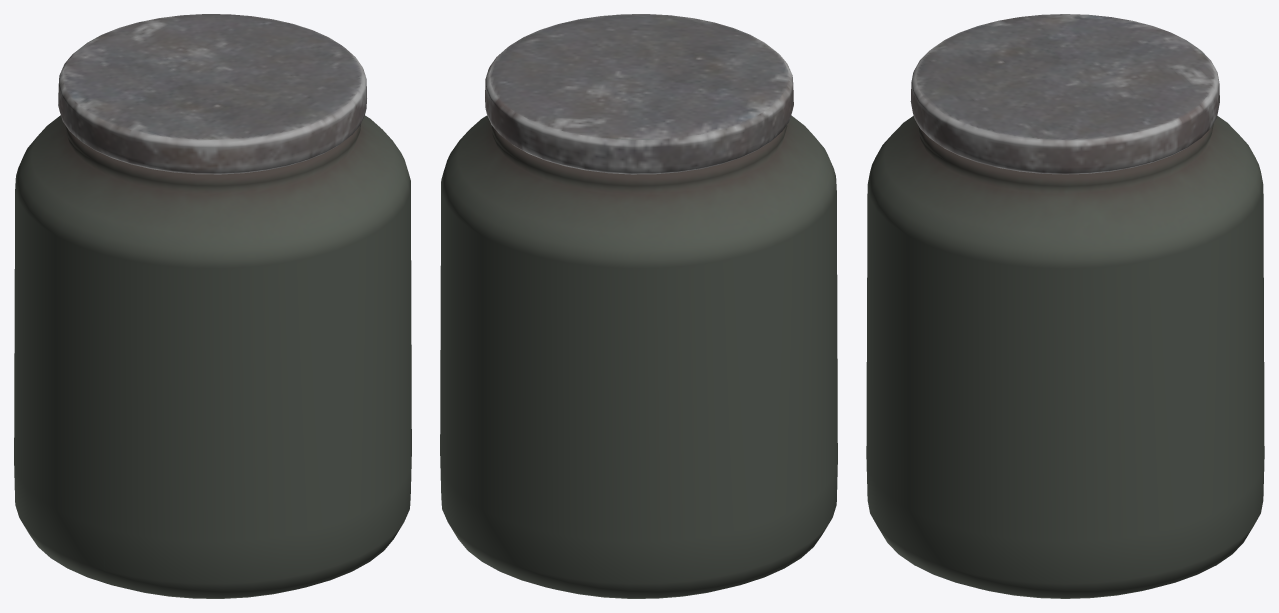
File: SM_Jar_02.fbx
3 renders of one model, left to right at view 1: azimuth 30°, elevation 25°; view 2: azimuth 150°, elevation 25°; view 3: azimuth 270°, elevation 25°, orthographic.
Parts seen in each view (by area): view 1: SM_Jar_02_LOD0; view 2: SM_Jar_02_LOD0; view 3: SM_Jar_02_LOD0.
Boxes of the visible parts, bbox=[...] form: SM_Jar_02_LOD0: bbox=[14, 14, 411, 598]; SM_Jar_02_LOD0: bbox=[440, 14, 837, 598]; SM_Jar_02_LOD0: bbox=[866, 14, 1264, 598].
Size of the model in its own units: 8.85 by 8.85 by 11.14.
